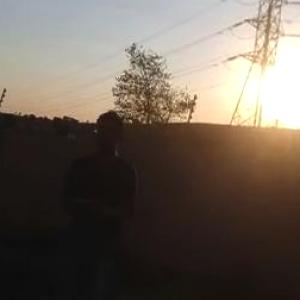follow: (58, 99, 155, 299)
